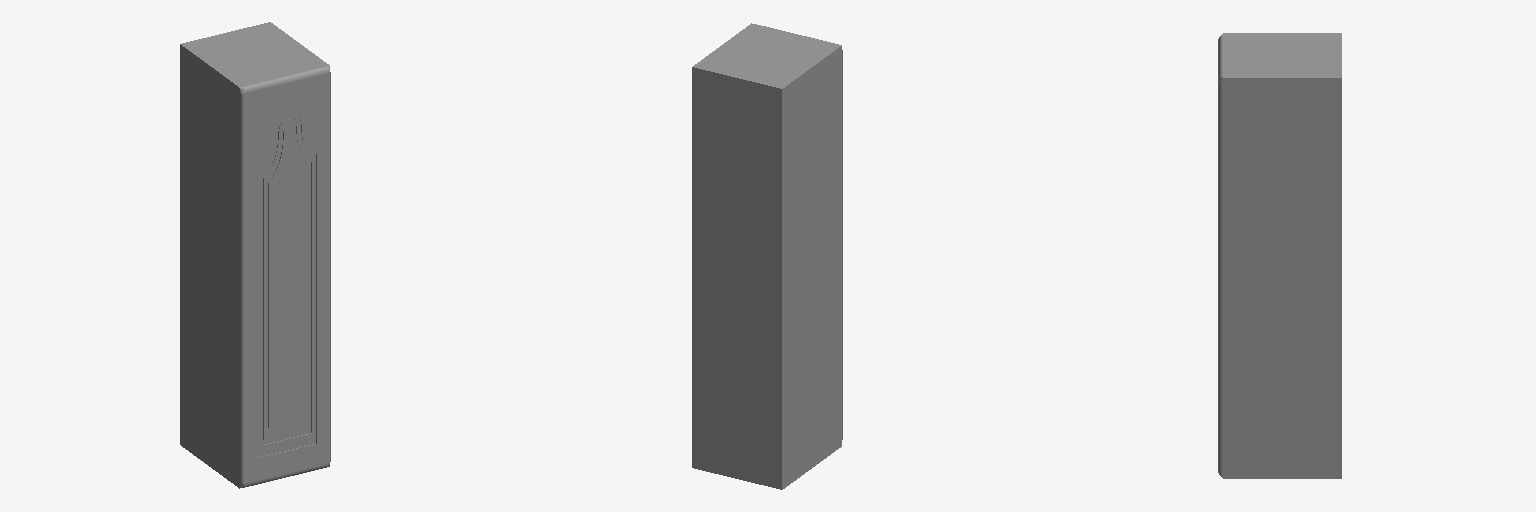
File: larder-unit-500.obj
3 renders of one model, left to right at view 1: azimuth 30°, elevation 25°; view 2: azimuth 150°, elevation 25°; view 3: azimuth 270°, elevation 25°, orthographic.
Visible parts, largest first — view 1: Cube.003_Cube.008, Cube.002_Cube.004, Cube_Cube.002; view 2: Cube_Cube.002, Cube.002_Cube.004, Cube.001_Cube.003; view 3: Cube.001_Cube.003, Cube_Cube.002, Cube.003_Cube.008.
Part boxes in pixels (x1,y1,x2,y2): Cube.003_Cube.008: (240, 66, 330, 487); Cube.002_Cube.004: (180, 43, 241, 488); Cube_Cube.002: (183, 23, 325, 86); Cube_Cube.002: (695, 24, 837, 488); Cube.002_Cube.004: (780, 45, 841, 489); Cube.001_Cube.003: (692, 23, 753, 468); Cube.001_Cube.003: (1223, 76, 1341, 478); Cube_Cube.002: (1223, 35, 1341, 75); Cube.003_Cube.008: (1218, 34, 1222, 477).
Size of the model in its own units: 100 by 424 by 118.